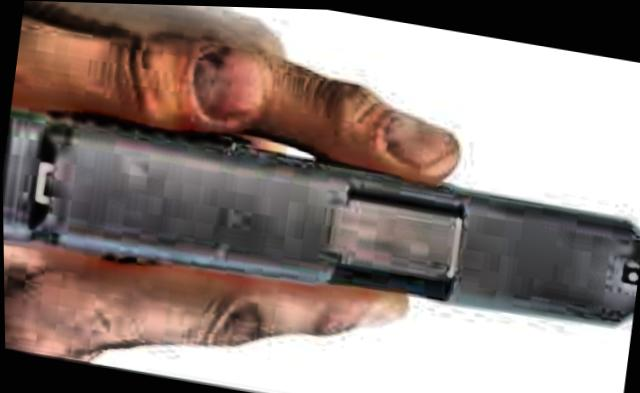pistol: (1, 93, 640, 335)
